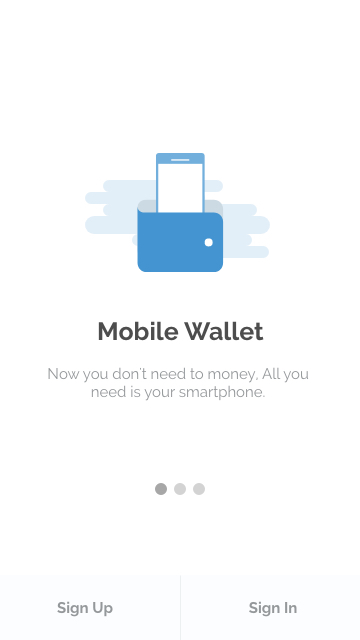Image: (85, 153, 271, 273)
PageIndicator: (155, 482, 206, 496)
Text: (48, 367, 309, 401), (99, 321, 264, 342), (57, 600, 114, 618), (248, 600, 298, 618)
